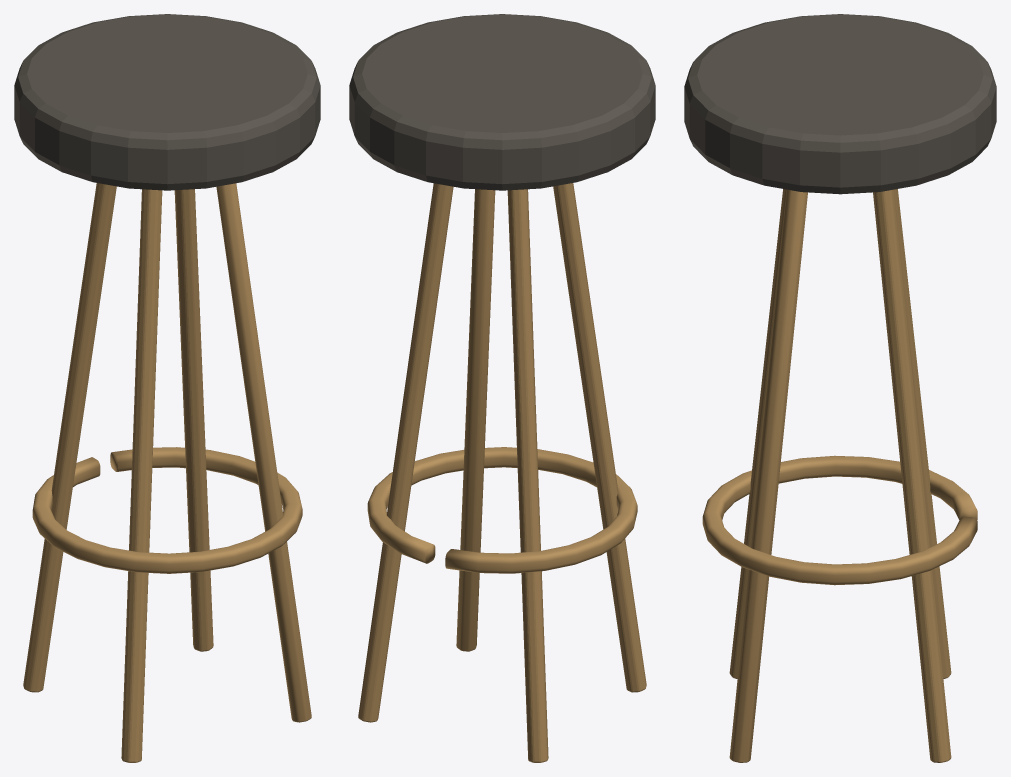
File: bar-stool.glb
3 views of the same model, side by side, from view 1: azimuth 30°, elevation 25°; view 2: azimuth 150°, elevation 25°; view 3: azimuth 270°, elevation 25° (orthographic). The views are drawn at different scales.
Parts seen in each view (by area): view 1: stool_seat, stool_leg_2, stool_leg_3, stool_leg_1, stool_ring, stool_leg_0; view 2: stool_seat, stool_leg_1, stool_leg_0, stool_leg_2, stool_ring, stool_leg_3; view 3: stool_seat, stool_leg_0, stool_leg_3, stool_ring, stool_leg_2, stool_leg_1.
Part boxes in pixels (x1,y1,x2,y2): stool_seat: (14,14,320,190); stool_leg_2: (121,189,162,762); stool_leg_3: (216,183,311,722); stool_leg_1: (23,183,116,692); stool_ring: (32,447,302,573); stool_leg_0: (174,189,213,651); stool_seat: (349,14,655,190); stool_leg_1: (507,189,548,762); stool_leg_0: (358,183,453,722); stool_leg_2: (553,183,646,692); stool_ring: (367,447,637,573); stool_leg_3: (456,189,495,651); stool_seat: (684,14,996,194); stool_leg_0: (873,189,951,762); stool_leg_3: (729,189,807,762); stool_ring: (702,455,977,585); stool_leg_2: (729,189,786,678); stool_leg_1: (894,189,951,678).
Bounding box in the file's own units: 0.34 × 0.773 × 0.34.
